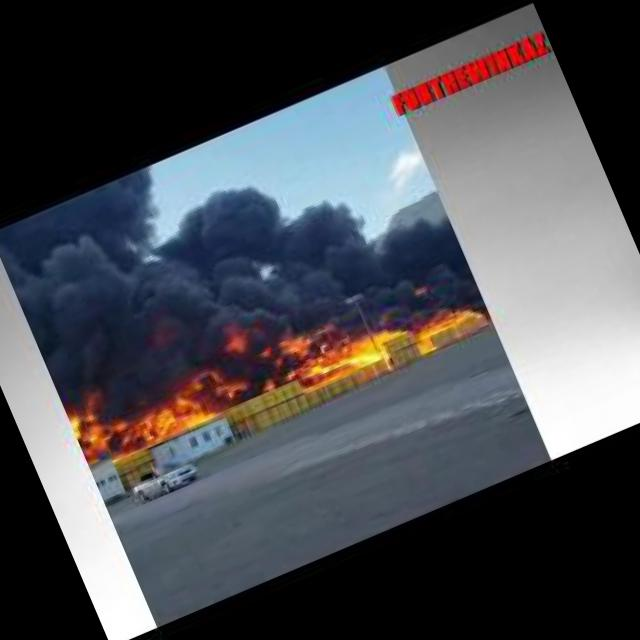fire: (288, 283, 482, 390), (76, 362, 228, 467), (248, 310, 346, 372)
smoke: (0, 70, 461, 421)
